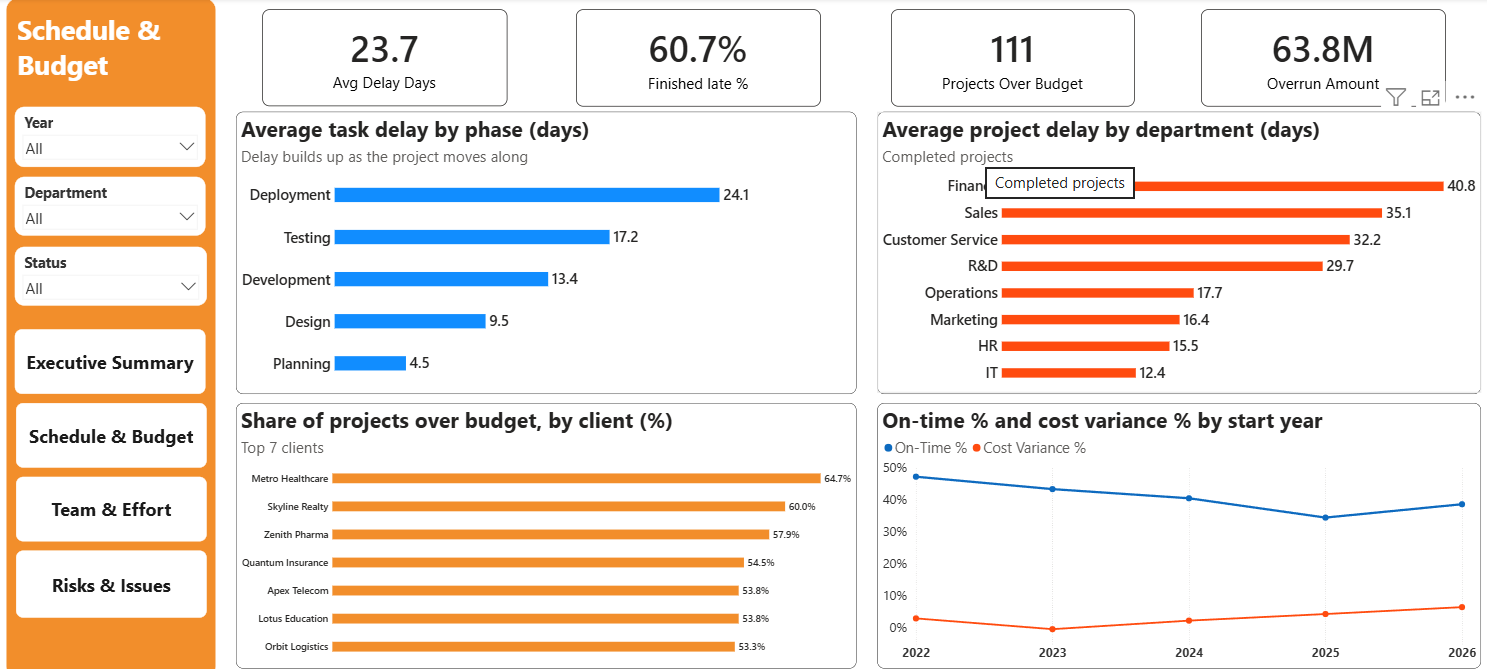

The dashboard page shown, as its layout file describes it:
{"tool":"powerbi","page":{"name":"Page 2","canvas":[3300,1500],"ordinal":1},"visuals":[{"type":"textbox","box":[21.2,0,462.3,1498.8],"z":0},{"type":"slicer","fields":{"Values":["Dim_Date.Year"]},"box":[42.3,238.7,420,133],"z":1000},{"type":"slicer","fields":{"Values":["Projects.Department"]},"box":[42.3,392.8,420,129.9],"z":2000},{"type":"slicer","fields":{"Values":["Projects.Status"]},"box":[42.3,546.9,423,129.9],"z":3000},{"type":"actionButton","title":"Executive Summary","box":[42.3,728.2,420,142],"z":4000},{"type":"actionButton","title":"Executive Summary","box":[45.3,891.4,420,142],"z":5000},{"type":"actionButton","title":"Executive Summary","box":[45.3,1054.6,420,142],"z":6000},{"type":"actionButton","title":"Executive Summary","box":[45.3,1217.8,420,148.1],"z":7000},{"type":"textbox","box":[42.3,24.2,441.2,187.3],"z":8000},{"type":"cardVisual","fields":{"Data":["Projects.Avg Delay Days"]},"box":[586.5,24.5,539.9,213.5],"z":9000},{"type":"cardVisual","fields":{"Data":["Projects.Finished late %"]},"box":[1277.3,24.8,539.5,214.7],"z":10000},{"type":"cardVisual","fields":{"Data":["Projects.Projects Over Budget"]},"box":[1971,24.8,536.8,214.7],"z":11000},{"type":"cardVisual","fields":{"Data":["Projects.Overrun Amount"]},"box":[2653.7,24.8,539.5,214.7],"z":12000},{"type":"clusteredBarChart","title":"Average task delay by phase (days)","fields":{"Category":["Tasks.Phase"],"Y":["Tasks.Task Delay Days"]},"box":[528.5,249.3,1366.1,621.6],"z":13000},{"type":"clusteredBarChart","title":"Average project delay by department (days)","fields":{"Category":["Projects.Department"],"Y":["Projects.Avg Delay Days"]},"box":[1941.2,249.3,1329.6,621.6],"z":14000},{"type":"clusteredBarChart","title":"Share of projects over budget, by client (%)","fields":{"Y":["Tasks.Over Budget %"],"Category":["Projects.Client"]},"box":[528.5,890.8,1366.1,585],"z":15000},{"type":"lineChart","title":"On-time % and cost variance % by start year","fields":{"Y":["Projects.On-Time %","Projects.Cost Variance %"],"Category":["Projects.Start Year"]},"box":[1941.2,890.8,1329.6,585],"z":16000}]}

Visuals, with their boxes in screenshot pixels (x1, y1, x2, y2), scaled from the page's 3300x1500 canvas onto the 1487x669 screenshot:
textbox: 10 0 218 668
slicer - Dim_Date.Year: 19 106 208 166
slicer - Projects.Department: 19 175 208 233
slicer - Projects.Status: 19 244 210 302
"Executive Summary" actionButton: 19 325 208 388
"Executive Summary" actionButton: 20 398 210 461
"Executive Summary" actionButton: 20 470 210 534
"Executive Summary" actionButton: 20 543 210 609
textbox: 19 11 218 94
cardVisual - Projects.Avg Delay Days: 264 11 508 106
cardVisual - Projects.Finished late %: 576 11 819 107
cardVisual - Projects.Projects Over Budget: 888 11 1130 107
cardVisual - Projects.Overrun Amount: 1196 11 1439 107
"Average task delay by phase (days)" clusteredBarChart: 238 111 854 388
"Average project delay by department (days)" clusteredBarChart: 875 111 1474 388
"Share of projects over budget, by client (%)" clusteredBarChart: 238 397 854 658
"On-time % and cost variance % by start year" lineChart: 875 397 1474 658
